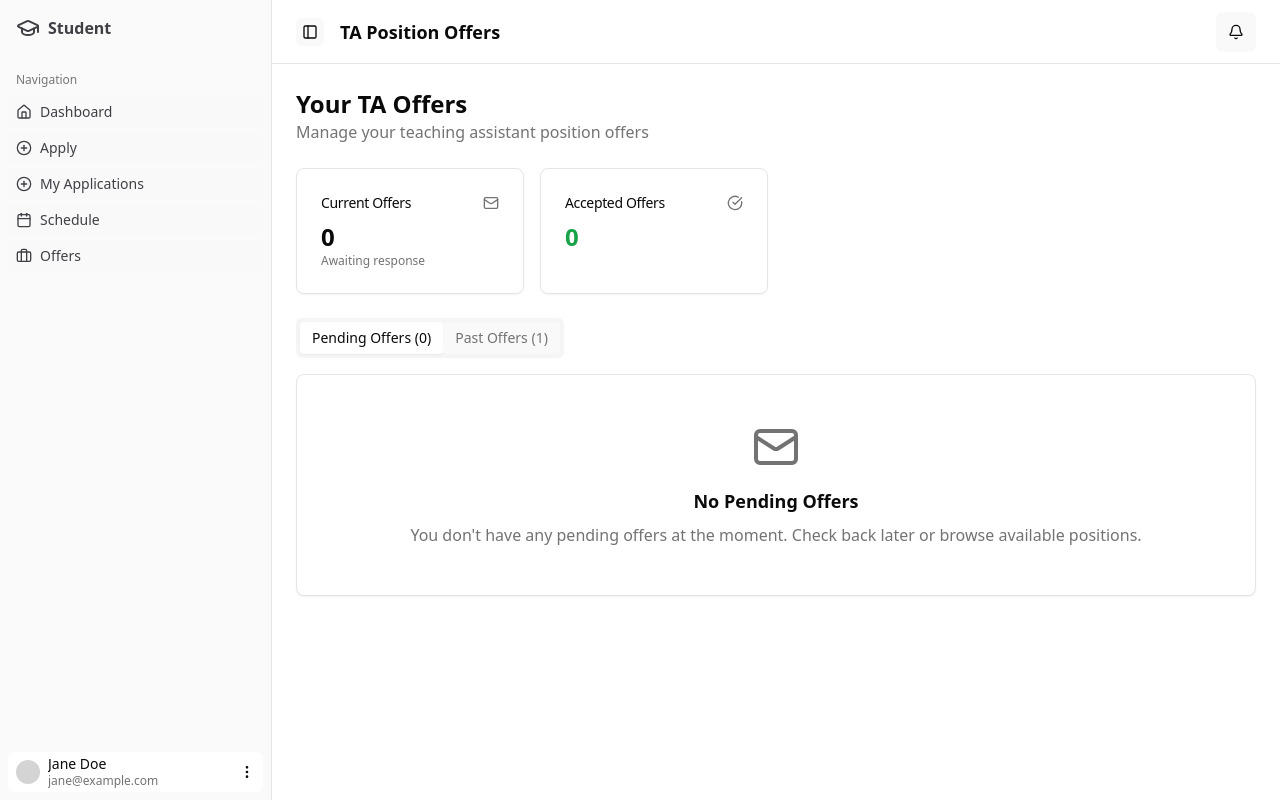
Test: OffersPage › shows rejected offers if available
// Click the "Past Offers" tab to view rejected offers
Click the tab "Past Offers (1)" at (502, 338), box [443,322,560,354]
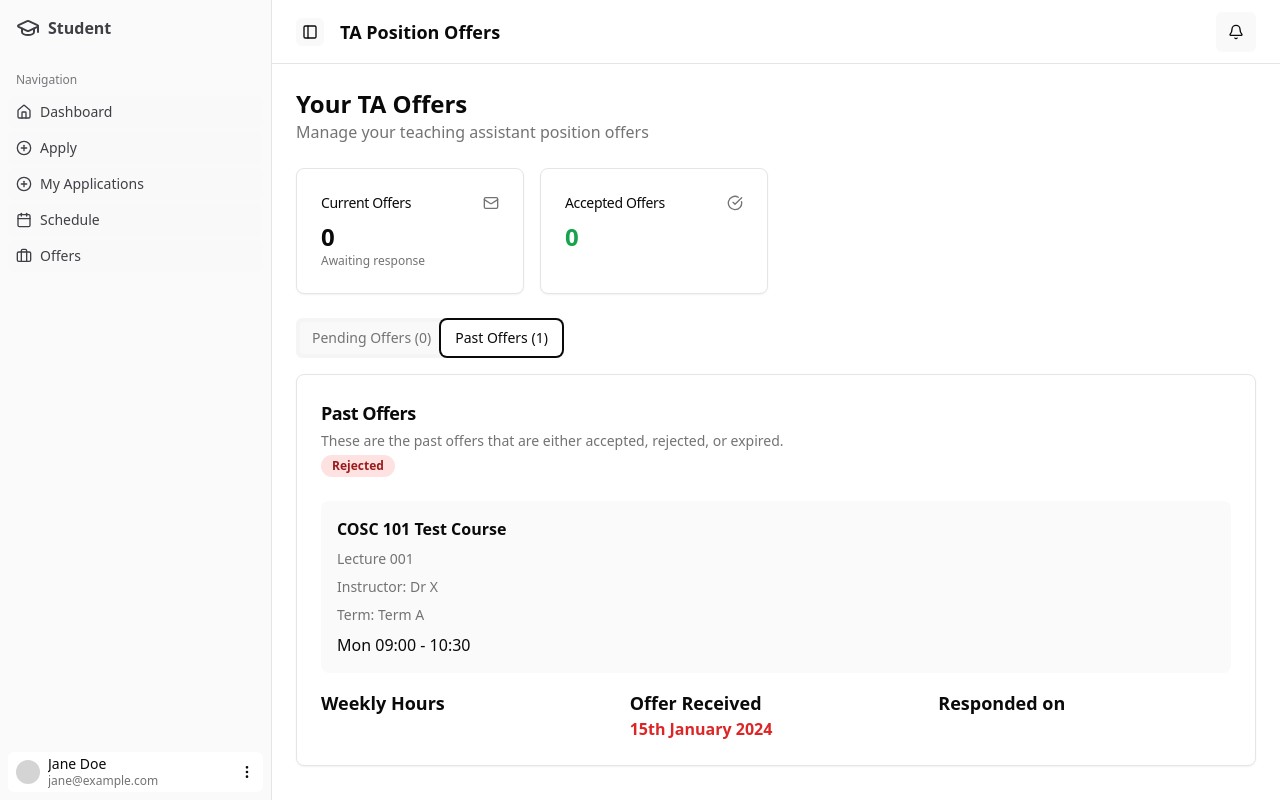
Expected: the text "Rejected" is shown, [321,455,395,477]
